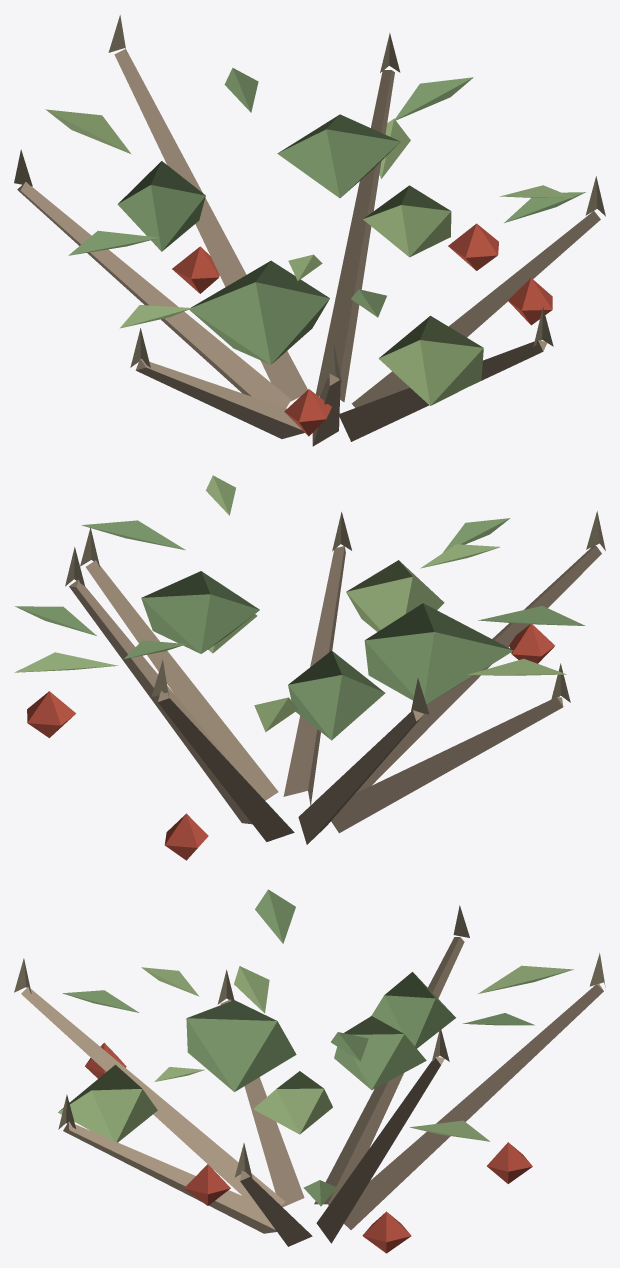
The model's file is guan.xuangouzi__summer.glb.
3 renders of one model, top to bottom at view 1: azimuth 30°, elevation 25°; view 2: azimuth 150°, elevation 25°; view 3: azimuth 270°, elevation 25°, orthographic. The views are drawn at different scales.
Parts seen in each view (by area): view 1: guan.xuangouzi__summer; view 2: guan.xuangouzi__summer; view 3: guan.xuangouzi__summer.
Boxes of the visible parts, <box> form: guan.xuangouzi__summer: <box>14,15,605,446</box>; guan.xuangouzi__summer: <box>14,475,605,860</box>; guan.xuangouzi__summer: <box>14,889,605,1253</box>.
Bounding box in the file's own units: 2.76 × 1.46 × 2.92.
